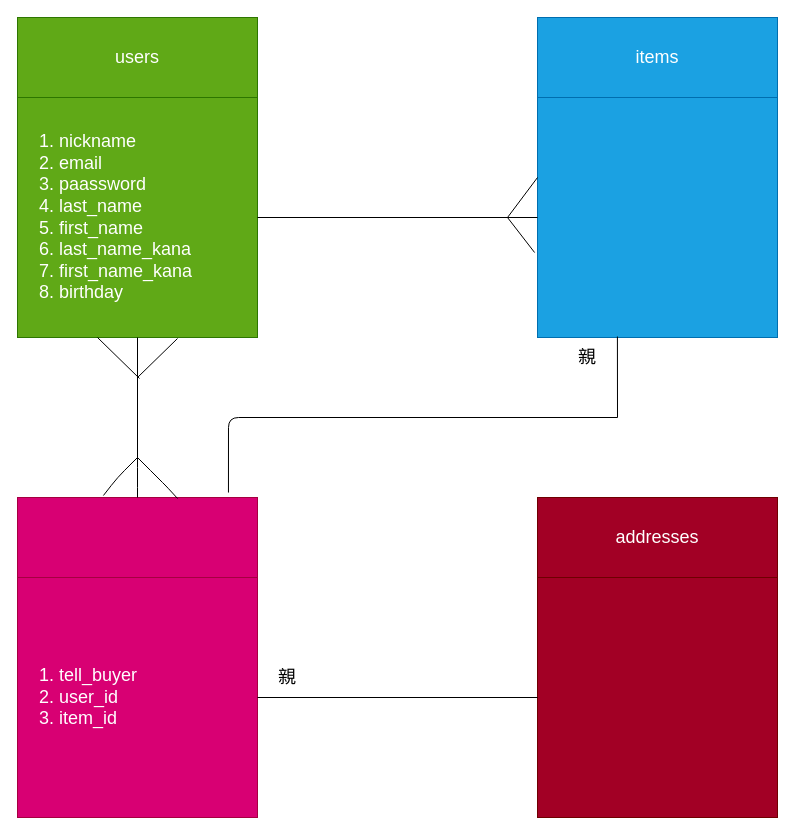
Some shapes in this 795 by 835 pixel diagram are drawn without their labels. The shapes that lost their labels are listed below. From the top down, each one's centre as x and y in pixels, then its label:
(657,217): name price explanation category status deal_fee region delivery_period
(137,537): purchases
(657,697): post_number prefecture city_town addressline building_name
